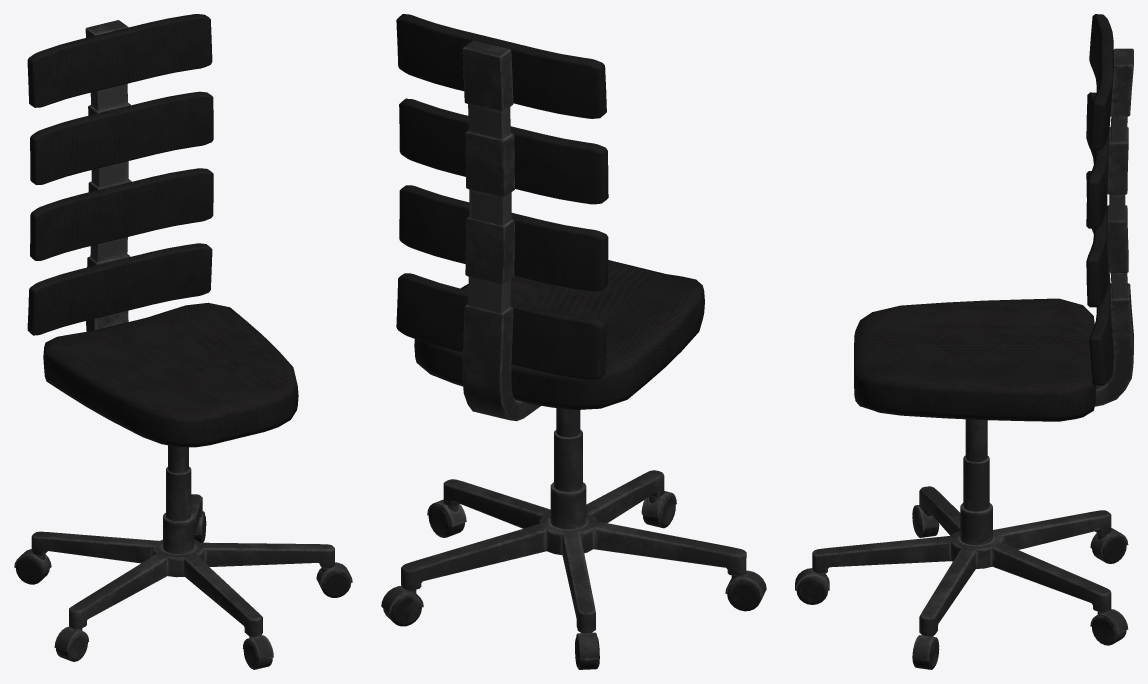
File: silla.glb
The picture shows the model from 3 angles, left to right: view 1: azimuth 30°, elevation 25°; view 2: azimuth 150°, elevation 25°; view 3: azimuth 270°, elevation 25°; orthographic projection. The views are drawn at different scales.
Visible parts, largest first — view 1: SM_Chair; view 2: SM_Chair; view 3: SM_Chair.
Boxes of the visible parts, x1,y1,x2,y2 form: SM_Chair: (14,14,352,669); SM_Chair: (381,14,766,669); SM_Chair: (795,14,1133,669).
Bounding box in the file's own units: 25.49 × 43.8 × 24.66.
Materials: 1 (1 with a texture image).
